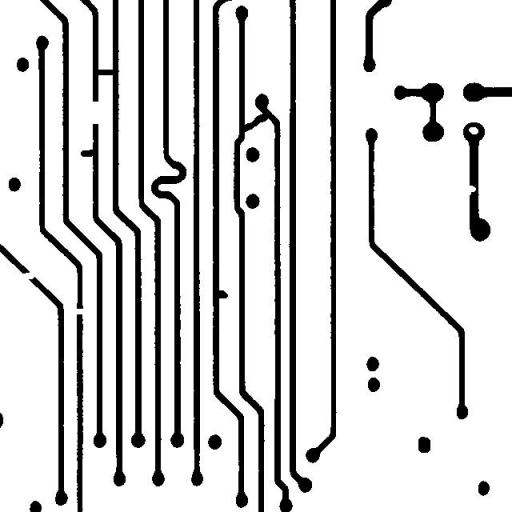copper: (410, 429, 438, 460)
mousebite: (458, 178, 483, 203)
open: (81, 94, 108, 131), (14, 264, 42, 286), (66, 300, 92, 322)
pin-hole: (460, 119, 486, 142)
short: (231, 105, 277, 139), (88, 62, 122, 82)
spur: (72, 142, 102, 164), (208, 282, 235, 306)
